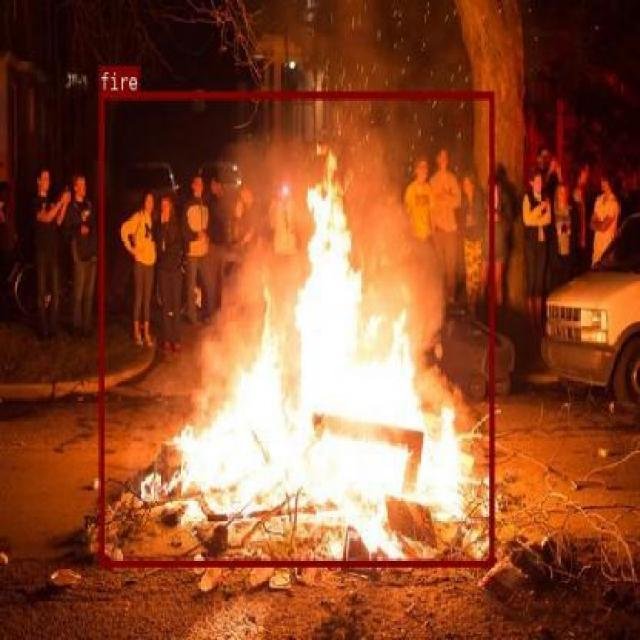Fire: (99, 92, 492, 566)
